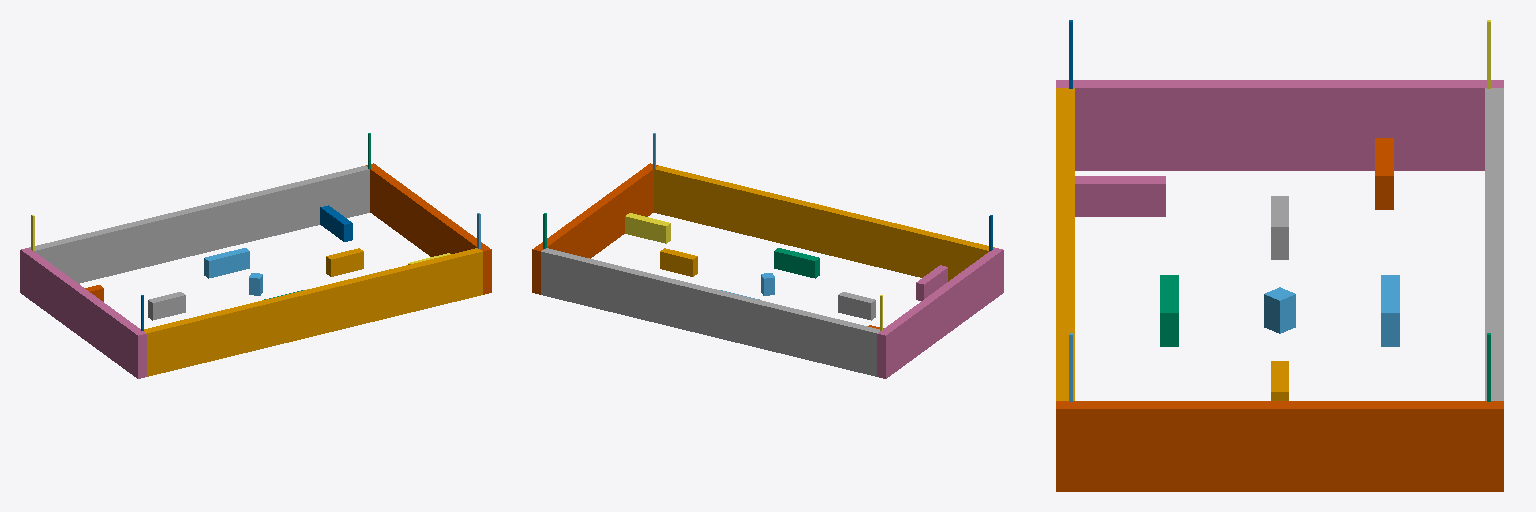
robot.urdf — field_with_mesh:
<?xml version="1.0"?>
<!-- created with Phobos 1.0.1 "Capricious Choutengan" -->
  <robot name="field_with_mesh">
    <link name="world"/>

    <link name="LA1">
      <inertial>
        <origin xyz="0 0 0" rpy="0 0 0"/>
        <mass value="0.001"/>
        <inertia ixx="0.001" ixy="0" ixz="0" iyy="0.001" iyz="0" izz="0.001"/>
      </inertial>
      <visual name="A1">
        <origin xyz="0 0 0" rpy="0 0 0"/>
        <geometry>
          <mesh filename="package://irm_icra_simulator/meshes/dae/A1.dae" scale="0.5 0.1 0.2"/>
        </geometry>
      </visual>
      <collision name="A1">
        <origin xyz="0 0 0" rpy="0 0 0"/>
        <geometry>
          <box size="1.0 0.2 0.4"/>
        </geometry>
      </collision>
    </link>

    <link name="LA2">
      <inertial>
        <origin xyz="0 0 0" rpy="0 0 0"/>
        <mass value="0.001"/>
        <inertia ixx="0.001" ixy="0" ixz="0" iyy="0.001" iyz="0" izz="0.001"/>
      </inertial>
      <visual name="A2">
        <origin xyz="0 0 0" rpy="0 0 0"/>
        <geometry>
          <mesh filename="package://irm_icra_simulator/meshes/dae/A2.dae" scale="0.5 0.1 0.2"/>
        </geometry>
      </visual>
      <collision name="A2">
        <origin xyz="0 0 0" rpy="0 0 0"/>
        <geometry>
          <box size="1.0 0.2 0.4"/>
        </geometry>
      </collision>
    </link>

    <link name="LA3">
      <inertial>
        <origin xyz="0 0 0" rpy="0 0 0"/>
        <mass value="0.001"/>
        <inertia ixx="0.001" ixy="0" ixz="0" iyy="0.001" iyz="0" izz="0.001"/>
      </inertial>
      <visual name="A3">
        <origin xyz="0 0 0" rpy="0 0 0"/>
        <geometry>
          <mesh filename="package://irm_icra_simulator/meshes/dae/A3.dae" scale="0.5 0.1 0.2"/>
        </geometry>
      </visual>
      <collision name="A3">
        <origin xyz="0 0 0" rpy="0 0 0"/>
        <geometry>
          <box size="1.0 0.2 0.4"/>
        </geometry>
      </collision>
    </link>

    <link name="LA4">
      <inertial>
        <origin xyz="0 0 0" rpy="0 0 0"/>
        <mass value="0.001"/>
        <inertia ixx="0.001" ixy="0" ixz="0" iyy="0.001" iyz="0" izz="0.001"/>
      </inertial>
      <visual name="A4">
        <origin xyz="0 0 0" rpy="0 0 0"/>
        <geometry>
          <mesh filename="package://irm_icra_simulator/meshes/dae/A4.dae" scale="0.5 0.1 0.2"/>
        </geometry>
      </visual>
      <collision name="A4">
        <origin xyz="0 0 0" rpy="0 0 0"/>
        <geometry>
          <box size="1.0 0.2 0.4"/>
        </geometry>
      </collision>
    </link>

    <link name="LA5">
      <inertial>
        <origin xyz="0 0 0" rpy="0 0 0"/>
        <mass value="0.001"/>
        <inertia ixx="0.001" ixy="0" ixz="0" iyy="0.001" iyz="0" izz="0.001"/>
      </inertial>
      <visual name="A5">
        <origin xyz="0 0 0" rpy="0 0 0"/>
        <geometry>
          <mesh filename="package://irm_icra_simulator/meshes/dae/A5.dae" scale="0.5 0.1 0.2"/>
        </geometry>
      </visual>
      <collision name="A5">
        <origin xyz="0 0 0" rpy="0 0 0"/>
        <geometry>
          <box size="1.0 0.2 0.4"/>
        </geometry>
      </collision>
    </link>

    <link name="LA6">
      <inertial>
        <origin xyz="0 0 0" rpy="0 0 0"/>
        <mass value="0.001"/>
        <inertia ixx="0.001" ixy="0" ixz="0" iyy="0.001" iyz="0" izz="0.001"/>
      </inertial>
      <visual name="A6">
        <origin xyz="0 0 0" rpy="0 0 0"/>
        <geometry>
          <mesh filename="package://irm_icra_simulator/meshes/dae/A6.dae" scale="0.5 0.1 0.2"/>
        </geometry>
      </visual>
      <collision name="A6">
        <origin xyz="0 0 0" rpy="0 0 0"/>
        <geometry>
          <box size="1.0 0.2 0.4"/>
        </geometry>
      </collision>
    </link>

    <link name="LB1">
      <inertial>
        <origin xyz="0 0 0" rpy="0 0 0"/>
        <mass value="0.001"/>
        <inertia ixx="0.001" ixy="0" ixz="0" iyy="0.001" iyz="0" izz="0.001"/>
      </inertial>
      <visual name="B1">
        <origin xyz="0 0 0" rpy="0 0 0"/>
        <geometry>
          <mesh filename="package://irm_icra_simulator/meshes/dae/B1.dae" scale="0.4 0.1 0.2"/>
        </geometry>
      </visual>
      <collision name="B1">
        <origin xyz="0 0 0" rpy="0 0 0"/>
        <geometry>
          <box size="0.8 0.2 0.4"/>
        </geometry>
      </collision>
    </link>

    <link name="LB2">
      <inertial>
        <origin xyz="0 0 0" rpy="0 0 0"/>
        <mass value="0.001"/>
        <inertia ixx="0.001" ixy="0" ixz="0" iyy="0.001" iyz="0" izz="0.001"/>
      </inertial>
      <visual name="B2">
        <origin xyz="0 0 0" rpy="0 0 0"/>
        <geometry>
          <mesh filename="package://irm_icra_simulator/meshes/dae/B2.dae" scale="0.4 0.1 0.2"/>
        </geometry>
        <material name="Material"/>
      </visual>
      <collision name="B2">
        <origin xyz="0 0 0" rpy="0 0 0"/>
        <geometry>
          <box size="0.8 0.2 0.4"/>
        </geometry>
      </collision>
    </link>

    <link name="LD1">
      <inertial>
        <origin xyz="0 0 0" rpy="0 0 0"/>
        <mass value="0.001"/>
        <inertia ixx="0.001" ixy="0" ixz="0" iyy="0.001" iyz="0" izz="0.001"/>
      </inertial>
      <visual name="D1">
        <origin xyz="0 0 0" rpy="0 0 0"/>
        <geometry>
          <box size="0.05 0.05 1.8"/>
        </geometry>
      </visual>
      <collision name="D1">
        <origin xyz="0 0 0" rpy="0 0 0"/>
        <geometry>
          <box size="0.05 0.05 1.8"/>
        </geometry>
      </collision>
    </link>

    <link name="LD2">
      <inertial>
        <origin xyz="0 0 0" rpy="0 0 0"/>
        <mass value="0.001"/>
        <inertia ixx="0.001" ixy="0" ixz="0" iyy="0.001" iyz="0" izz="0.001"/>
      </inertial>
      <visual name="D2">
        <origin xyz="0 0 0" rpy="0 0 0"/>
        <geometry>
          <box size="0.05 0.05 1.8"/>
        </geometry>
      </visual>
      <collision name="D2">
        <origin xyz="0 0 0" rpy="0 0 0"/>
        <geometry>
          <box size="0.05 0.05 1.8"/>
        </geometry>
      </collision>
    </link>

    <link name="LD3">
      <inertial>
        <origin xyz="0 0 0" rpy="0 0 0"/>
        <mass value="0.001"/>
        <inertia ixx="0.001" ixy="0" ixz="0" iyy="0.001" iyz="0" izz="0.001"/>
      </inertial>
      <visual name="D3">
        <origin xyz="0 0 0" rpy="0 0 0"/>
        <geometry>
          <box size="0.05 0.05 1.8"/>
        </geometry>
      </visual>
      <collision name="D3">
        <origin xyz="0 0 0" rpy="0 0 0"/>
        <geometry>
          <box size="0.05 0.05 1.8"/>
        </geometry>
      </collision>
    </link>

    <link name="LD4">
      <inertial>
        <origin xyz="0 0 0" rpy="0 0 0"/>
        <mass value="0.001"/>
        <inertia ixx="0.001" ixy="0" ixz="0" iyy="0.001" iyz="0" izz="0.001"/>
      </inertial>
      <visual name="D4">
        <origin xyz="0 0 0" rpy="0 0 0"/>
        <geometry>
          <box size="0.05 0.05 1.8"/>
        </geometry>
      </visual>
      <collision name="D4">
        <origin xyz="0 0 0" rpy="0 0 0"/>
        <geometry>
          <box size="0.05 0.05 1.8"/>
        </geometry>
      </collision>
    </link>

    <link name="LW1">
      <inertial>
        <origin xyz="0 0 0" rpy="0 0 0"/>
        <mass value="0.001"/>
        <inertia ixx="0.001" ixy="0" ixz="0" iyy="0.001" iyz="0" izz="0.001"/>
      </inertial>
      <visual name="W1">
        <origin xyz="0 0 0" rpy="0 0 0"/>
        <geometry>
          <mesh filename="package://irm_icra_simulator/meshes/dae/W1.dae" scale="0.1025 2.445 0.5"/>
        </geometry>
      </visual>
      <collision name="W1">
        <origin xyz="0 0 0" rpy="0 0 0"/>
        <geometry>
          <box size="0.205 4.89 1.0"/>
        </geometry>
      </collision>
    </link>

    <link name="LW2">
      <inertial>
        <origin xyz="0 0 0" rpy="0 0 0"/>
        <mass value="0.001"/>
        <inertia ixx="0.001" ixy="0" ixz="0" iyy="0.001" iyz="0" izz="0.001"/>
      </inertial>
      <visual name="W2">
        <origin xyz="0 0 0" rpy="0 0 0"/>
        <geometry>
          <mesh filename="package://irm_icra_simulator/meshes/dae/W2.dae" scale="0.1025 2.445 0.5"/>
        </geometry>
      </visual>
      <collision name="W2">
        <origin xyz="0 0 0" rpy="0 0 0"/>
        <geometry>
          <box size="0.205 4.89 1.0"/>
        </geometry>
      </collision>
    </link>

    <link name="LW3">
      <inertial>
        <origin xyz="0 0 0" rpy="0 0 0"/>
        <mass value="0.001"/>
        <inertia ixx="0.001" ixy="0" ixz="0" iyy="0.001" iyz="0" izz="0.001"/>
      </inertial>
      <visual name="W3">
        <origin xyz="0 0 0" rpy="0 0 0"/>
        <geometry>
          <mesh filename="package://irm_icra_simulator/meshes/dae/W3.dae" scale="4.04 0.1025 0.5"/>
        </geometry>
      </visual>
      <collision name="W3">
        <origin xyz="0 0 0" rpy="0 0 0"/>
        <geometry>
          <box size="8.08 0.205 1.0"/>
        </geometry>
      </collision>
    </link>

    <link name="LW4">
      <inertial>
        <origin xyz="0 0 0" rpy="0 0 0"/>
        <mass value="0.001"/>
        <inertia ixx="0.001" ixy="0" ixz="0" iyy="0.001" iyz="0" izz="0.001"/>
      </inertial>
      <visual name="W4">
        <origin xyz="0 0 0" rpy="0 0 0"/>
        <geometry>
          <mesh filename="package://irm_icra_simulator/meshes/dae/W4.dae" scale="4.04 0.1025 0.5"/>
        </geometry>
      </visual>
      <collision name="W4">
        <origin xyz="0 0 0" rpy="0 0 0"/>
        <geometry>
          <box size="8.08 0.205 1.0"/>
        </geometry>
      </collision>
    </link>

    <link name="Lcenter">
      <inertial>
        <origin xyz="0 0 0" rpy="0 0 0"/>
        <mass value="0.001"/>
        <inertia ixx="0.001" ixy="0" ixz="0" iyy="0.001" iyz="0" izz="0.001"/>
      </inertial>
      <visual name="center">
        <origin xyz="0 0 0" rpy="0 0 0"/>
        <geometry>
          <mesh filename="package://irm_icra_simulator/meshes/dae/center.dae" scale="0.125 0.125 0.2"/>
        </geometry>
      </visual>
      <collision name="center">
        <origin xyz="0 0 0" rpy="0 0 0"/>
        <geometry>
          <box size="0.25 0.25 0.4"/>
        </geometry>
      </collision>
    </link>

    <link name="Lfield">
      <inertial>
        <origin xyz="0 0 0" rpy="0 0 0"/>
        <mass value="0.001"/>
        <inertia ixx="0.001" ixy="0" ixz="0" iyy="0.001" iyz="0" izz="0.001"/>
      </inertial>
    </link>

    <joint name="LA1" type="fixed">
      <origin xyz="0 1.205 -0.3" rpy="0 0 0"/>
      <parent link="Lfield"/>
      <child link="LA1"/>
    </joint>

    <joint name="LA2" type="fixed">
      <origin xyz="0 -1.205 -0.3" rpy="0 0 0"/>
      <parent link="Lfield"/>
      <child link="LA2"/>
    </joint>

    <joint name="LA3" type="fixed">
      <origin xyz="3.54 -1.14 -0.3" rpy="0 0 0"/>
      <parent link="Lfield"/>
      <child link="LA3"/>
    </joint>

    <joint name="LA4" type="fixed">
      <origin xyz="2.94 1.74 -0.3" rpy="0 0 1.5708"/>
      <parent link="Lfield"/>
      <child link="LA4"/>
    </joint>

    <joint name="LA5" type="fixed">
      <origin xyz="-3.54 1.14 -0.3" rpy="0 0 0"/>
      <parent link="Lfield"/>
      <child link="LA5"/>
    </joint>

    <joint name="LA6" type="fixed">
      <origin xyz="-2.94 -1.74 -0.3" rpy="0 0 1.5708"/>
      <parent link="Lfield"/>
      <child link="LA6"/>
    </joint>

    <joint name="LB1" type="fixed">
      <origin xyz="-2.14 0 -0.3" rpy="0 0 0"/>
      <parent link="Lfield"/>
      <child link="LB1"/>
    </joint>

    <joint name="LB2" type="fixed">
      <origin xyz="2.14 0 -0.3" rpy="0 0 0"/>
      <parent link="Lfield"/>
      <child link="LB2"/>
    </joint>

    <joint name="LD1" type="fixed">
      <origin xyz="4.04 -2.28 0.4" rpy="0 0 0"/>
      <parent link="Lfield"/>
      <child link="LD1"/>
    </joint>

    <joint name="LD2" type="fixed">
      <origin xyz="4.04 2.28 0.4" rpy="0 0 0"/>
      <parent link="Lfield"/>
      <child link="LD2"/>
    </joint>

    <joint name="LD3" type="fixed">
      <origin xyz="-4.04 2.28 0.4" rpy="0 0 0"/>
      <parent link="Lfield"/>
      <child link="LD3"/>
    </joint>

    <joint name="LD4" type="fixed">
      <origin xyz="-4.04 -2.28 0.4" rpy="0 0 0"/>
      <parent link="Lfield"/>
      <child link="LD4"/>
    </joint>

    <joint name="LW1" type="fixed">
      <origin xyz="4.1425 0 0" rpy="0 0 0"/>
      <parent link="Lfield"/>
      <child link="LW1"/>
    </joint>

    <joint name="LW2" type="fixed">
      <origin xyz="-4.1425 0 0" rpy="0 0 0"/>
      <parent link="Lfield"/>
      <child link="LW2"/>
    </joint>

    <joint name="LW3" type="fixed">
      <origin xyz="0 2.3425 0" rpy="0 0 0"/>
      <parent link="Lfield"/>
      <child link="LW3"/>
    </joint>

    <joint name="LW4" type="fixed">
      <origin xyz="0 -2.3425 0" rpy="0 0 0"/>
      <parent link="Lfield"/>
      <child link="LW4"/>
    </joint>

    <joint name="Lcenter" type="fixed">
      <origin xyz="0 0 -0.3" rpy="0 0 0.7854"/>
      <parent link="Lfield"/>
      <child link="Lcenter"/>
    </joint>

    <joint name="fixed" type="fixed">
      <origin xyz="0 0 0.5" rpy="0 0 0"/>
      <parent link="world"/>
      <child link="Lfield"/>
    </joint>
  </robot>

--- What the picture shows (computed from the rendered views, not written in the file) ---
The picture shows the robot from 3 angles, left to right: view 1: azimuth 30°, elevation 25°; view 2: azimuth 150°, elevation 25°; view 3: azimuth 270°, elevation 25°; orthographic projection.
Robot: field_with_mesh — 19 links, 18 joints (18 fixed); root link world; default pose: all joints at 0.
Links seen in each view (by area): view 1: LW4, LW3, LW2, LW1, LA1, LB2, LB1, LA4; view 2: LW3, LW4, LW2, LW1, LA2, LA3, LB2, LB1, LA6; view 3: LW1, LW2, LW3, LW4, LA6, LA1, LA2, LA5, Lcenter, LB1, LB2.
Boxes of the visible links, box(x1,y1,x2,y2) form: LW4: box(144, 248, 482, 376); LW3: box(29, 165, 369, 283); LW2: box(20, 248, 146, 378); LW1: box(366, 163, 491, 294); LA1: box(204, 248, 249, 278); LB2: box(326, 248, 363, 276); LB1: box(148, 292, 185, 320); LA4: box(320, 205, 352, 241); LW3: box(541, 248, 879, 376); LW4: box(654, 165, 994, 281); LW2: box(877, 248, 1003, 378); LW1: box(532, 163, 657, 294); LA2: box(774, 248, 819, 278); LA3: box(625, 213, 670, 243); LB2: box(660, 248, 697, 276); LB1: box(838, 292, 875, 320); LA6: box(916, 265, 947, 300); LW1: box(1056, 401, 1503, 491); LW2: box(1056, 80, 1503, 170); LW3: box(1485, 88, 1503, 400); LW4: box(1056, 88, 1074, 400); LA6: box(1075, 176, 1165, 216); LA1: box(1381, 275, 1399, 346); LA2: box(1160, 275, 1178, 346); LA5: box(1375, 138, 1393, 209); Lcenter: box(1264, 287, 1295, 333); LB1: box(1271, 196, 1288, 259); LB2: box(1271, 361, 1288, 400).
Bounding box of the posed robot: 8.49 × 4.89 × 1.8 m (x, y, z).
13 mesh visuals loaded from 13 distinct referenced files (13 Collada DAE).